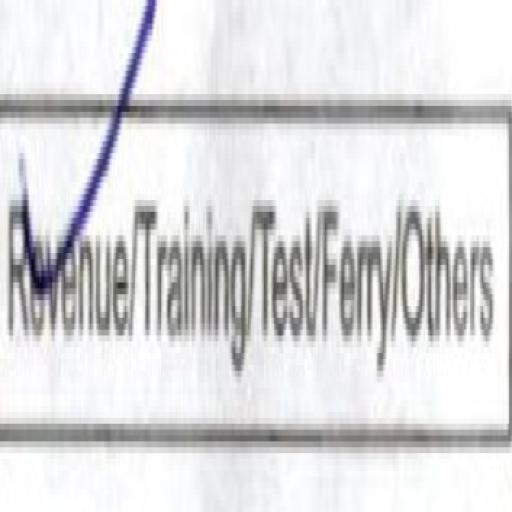check: (0, 0, 136, 452)
